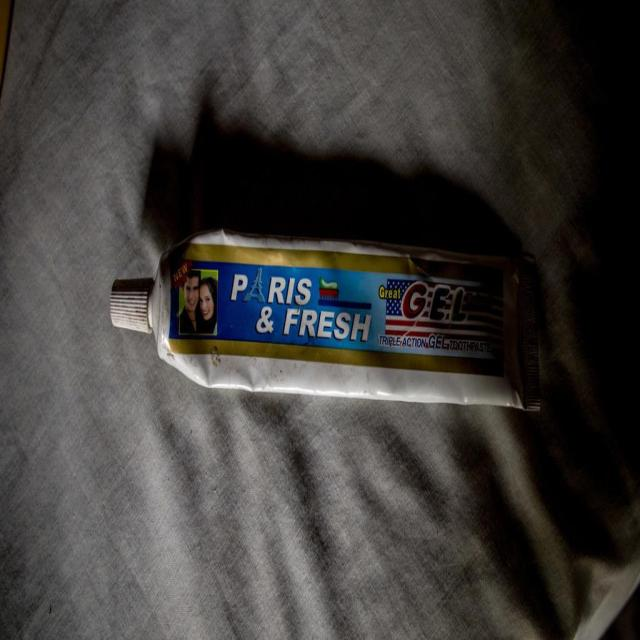Toothpaste: (110, 228, 544, 413)
